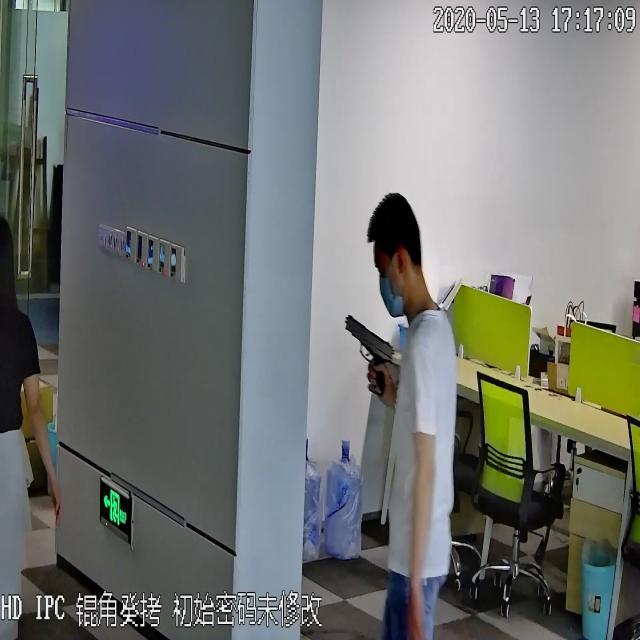gun-knife-thesis - v11 Yolov5 augmented: (340, 308, 404, 419)
